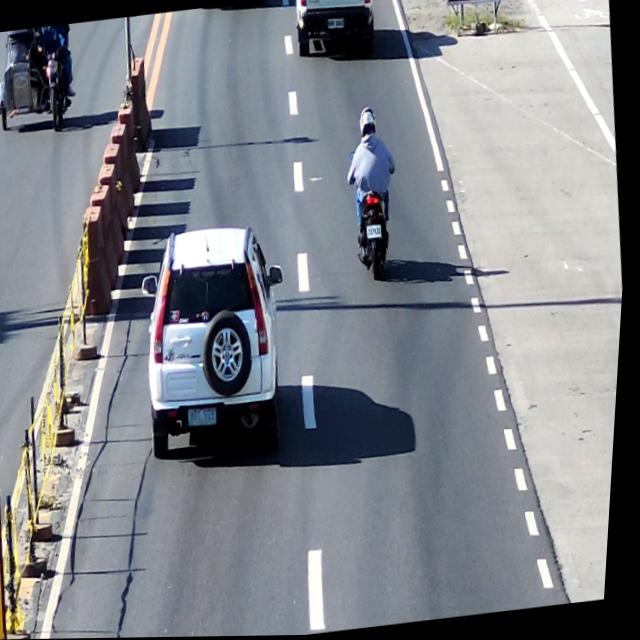Car: (130, 217, 302, 475), (289, 0, 379, 61)
License-Plate: (190, 403, 226, 431), (367, 223, 386, 241), (325, 16, 346, 32)
Motorcycle: (349, 161, 405, 284)
Tricycle: (0, 23, 80, 141)
